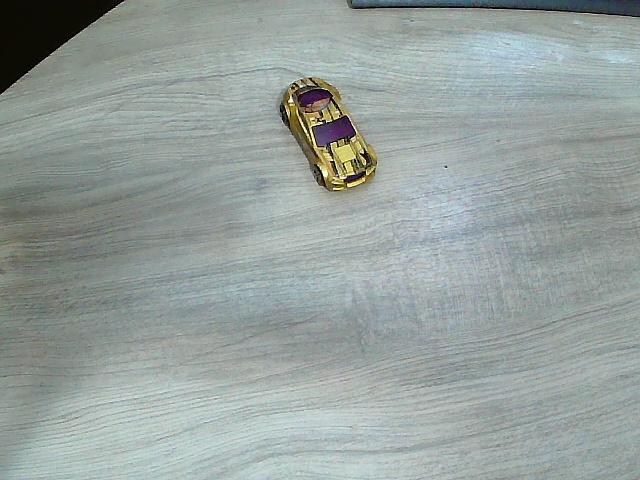Carro: (281, 78, 378, 191)
